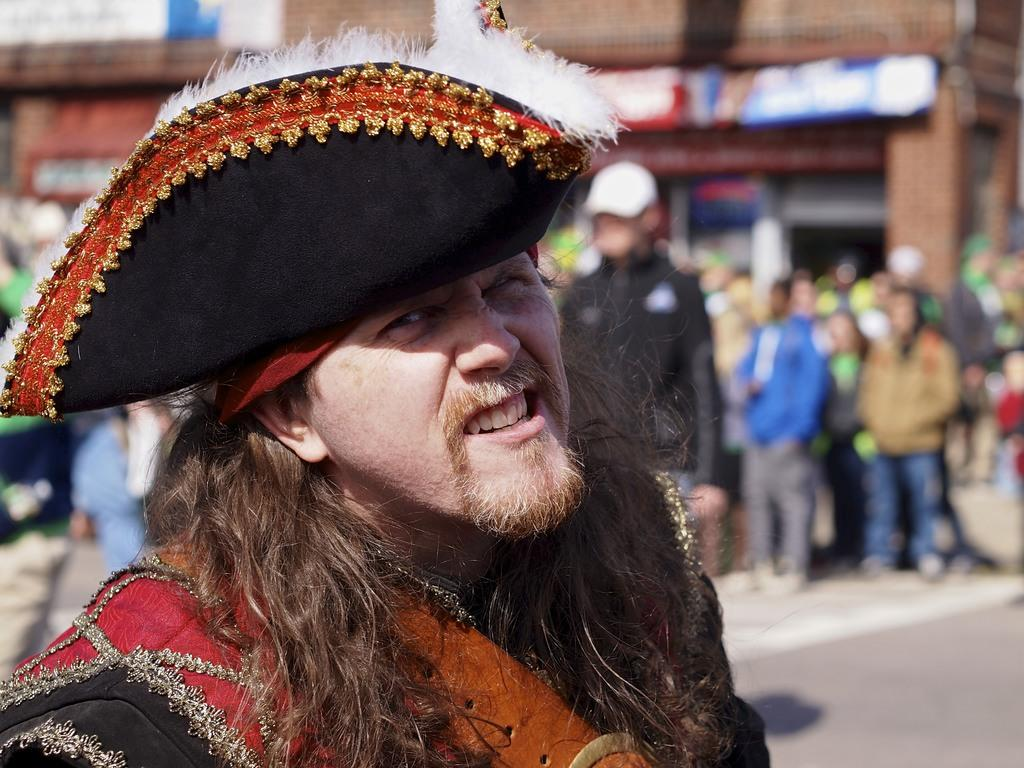Hat: (0, 0, 629, 421), (582, 156, 661, 222)
